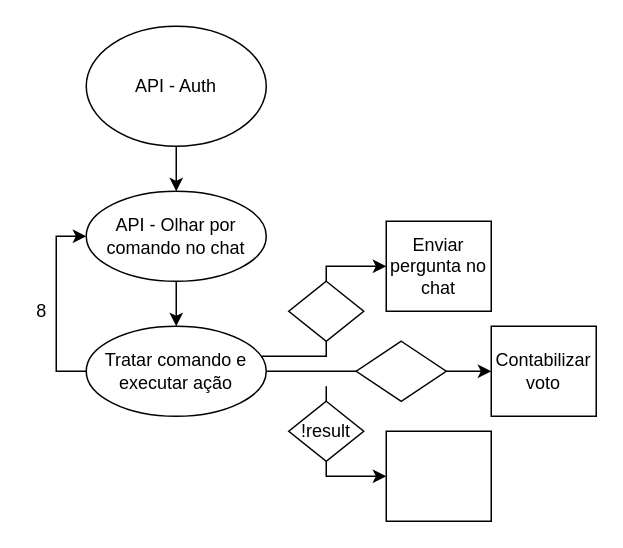
The diagram is 623 pixels wide and 548 high, and some of its shapes have lost their labels. The shapes that lost their labels are listed below. From the top down, each one's box as (x1, y1, x2, y2) in pixels, then its label:
(287, 280, 364, 341): !poll
(355, 340, 446, 401): !Y | !N
(385, 430, 491, 521): Comentar resultado
